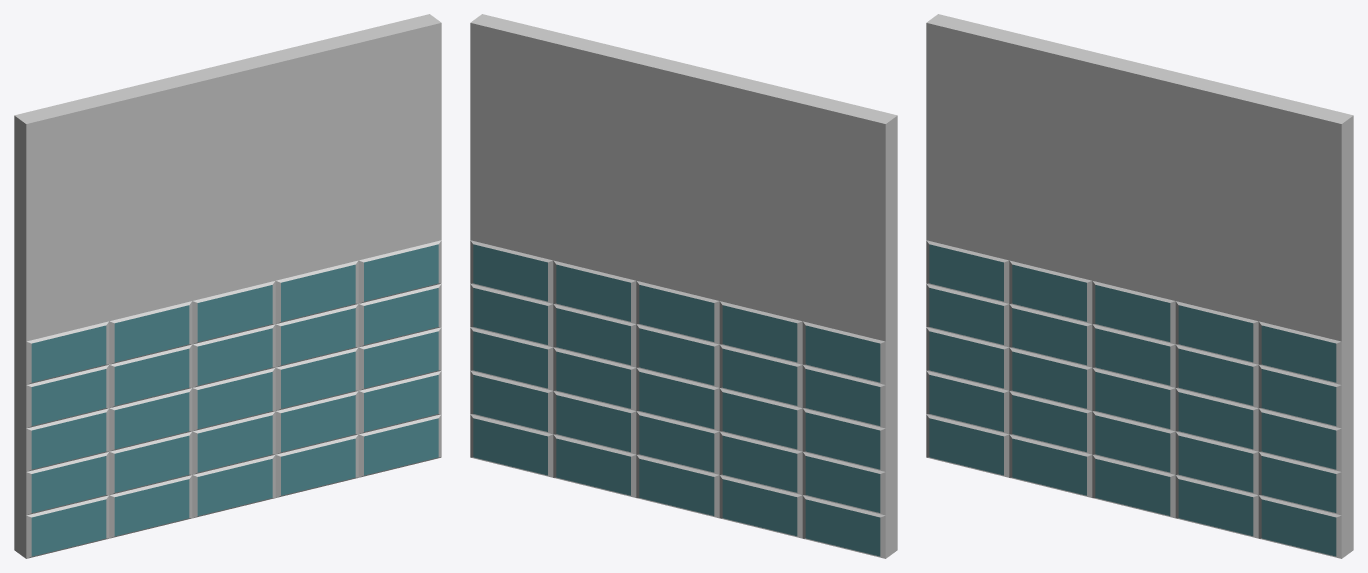
Rendered from Wall 1 Doublesided.fbx.
3 views of the same model, side by side, from view 1: azimuth 30°, elevation 25°; view 2: azimuth 150°, elevation 25°; view 3: azimuth 330°, elevation 25° (orthographic).
Parts seen in each view (by area): view 1: Wall 1 Doublesided; view 2: Wall 1 Doublesided; view 3: Wall 1 Doublesided.
Part boxes in pixels (x1,y1,x2,y2): Wall 1 Doublesided: [14, 14, 441, 558]; Wall 1 Doublesided: [470, 14, 897, 558]; Wall 1 Doublesided: [926, 14, 1353, 558].
Size of the model in its own units: 2000 by 2000 by 120.
